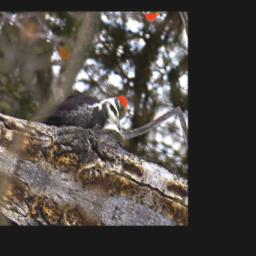Woodpecker: (40, 64, 133, 156)
